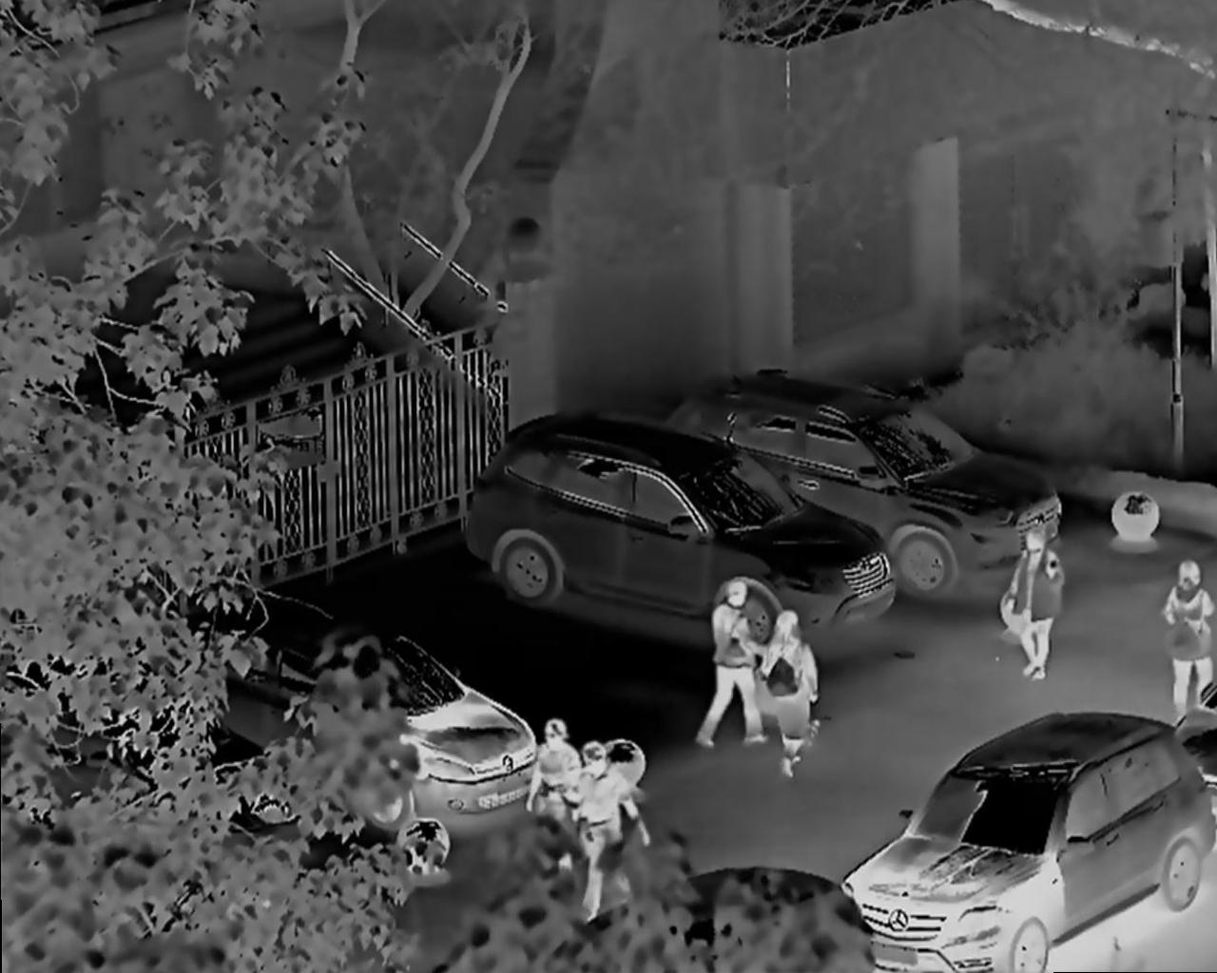person: (568, 741, 647, 923), (699, 580, 781, 754), (760, 615, 823, 791), (1010, 521, 1071, 688), (1162, 547, 1209, 732), (522, 711, 578, 829)
